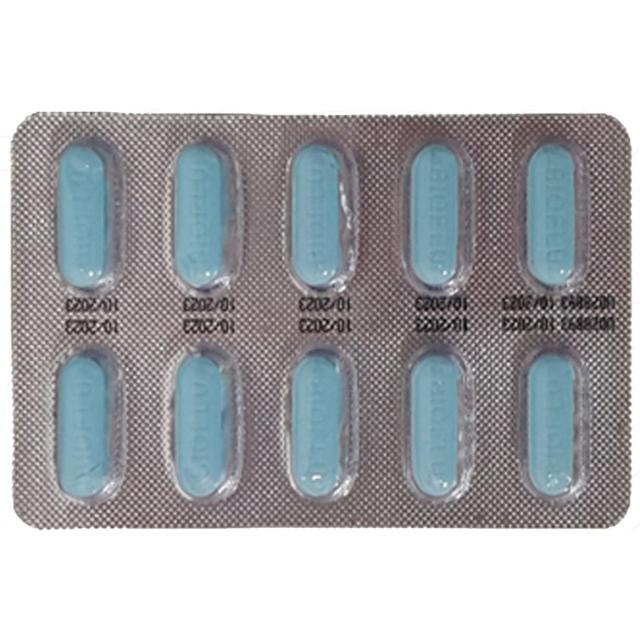blister: (4, 103, 632, 539)
